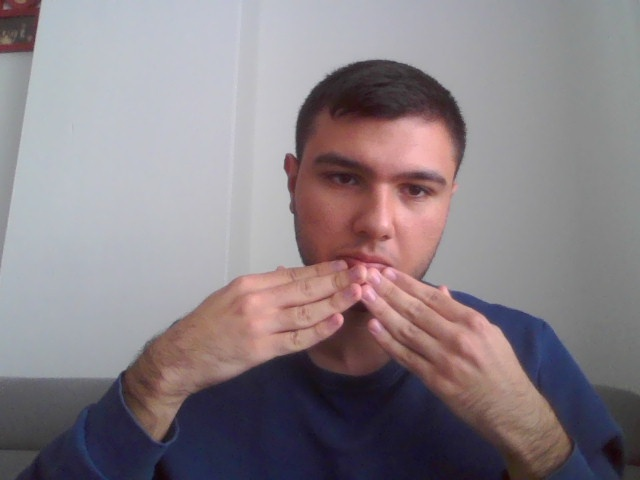thanks: (134, 258, 576, 463)
